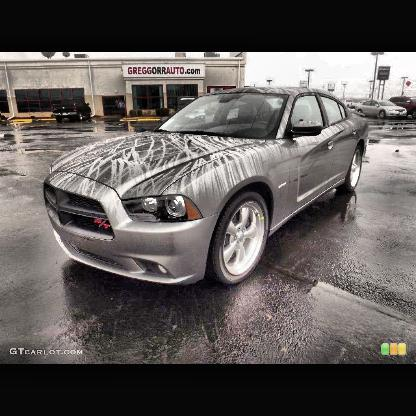Dodge Charger Sedan 2012: (41, 82, 374, 298)
